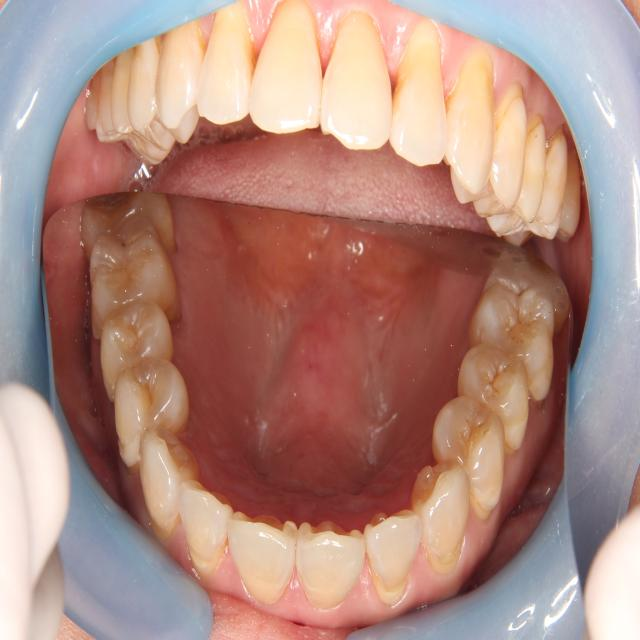tooth: (70, 218, 194, 333), (94, 349, 206, 472), (424, 379, 510, 530), (446, 336, 542, 467), (467, 284, 563, 413), (398, 441, 483, 583), (84, 299, 192, 409), (283, 501, 375, 620), (217, 495, 304, 612), (132, 422, 209, 545), (477, 238, 574, 334), (352, 493, 432, 608), (170, 474, 236, 584), (79, 194, 182, 262)
